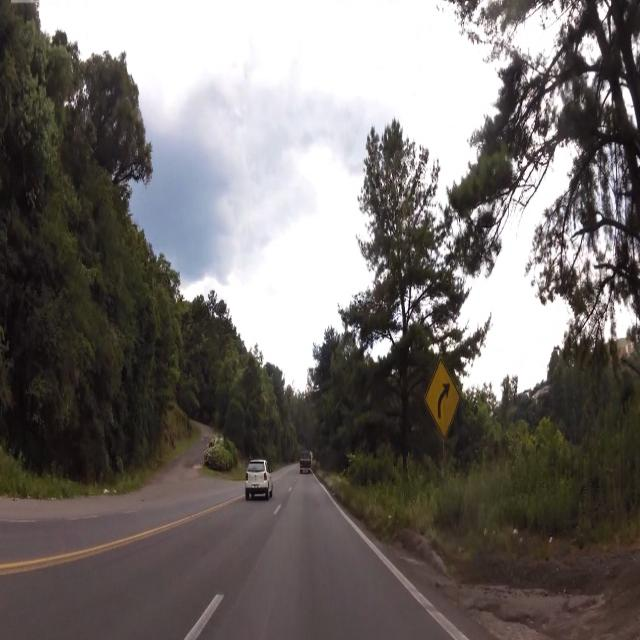A-2b: (423, 359, 460, 440)
